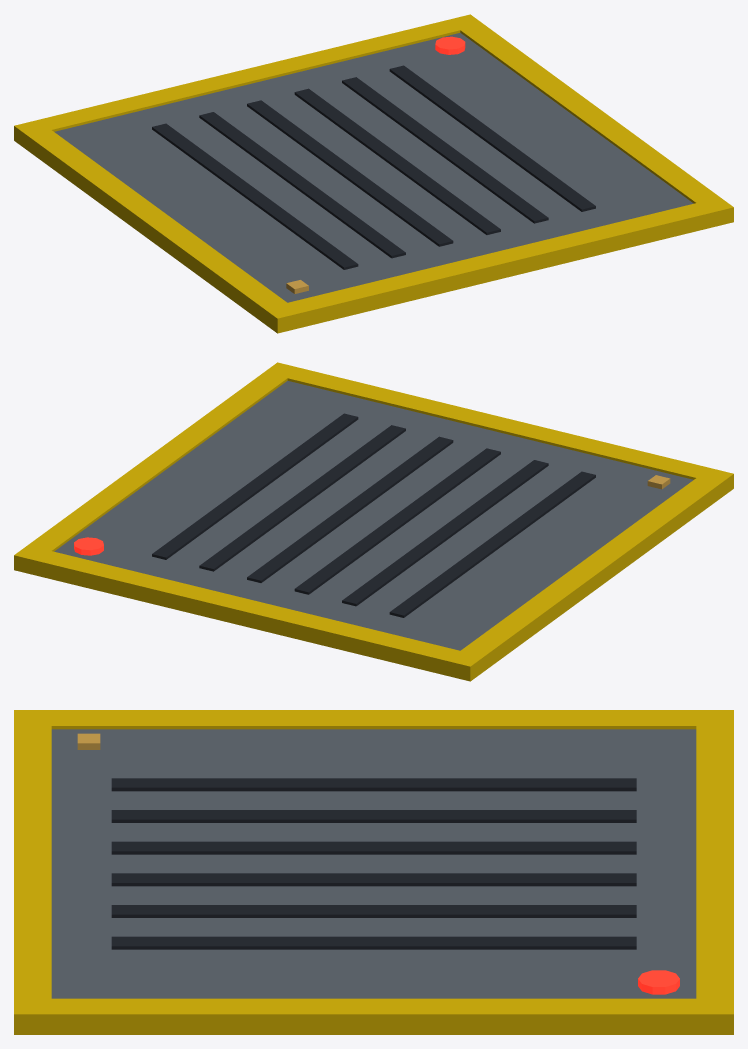
The model's file is pressure_plate.glb.
3 views of the same model, one above another, from view 1: azimuth 30°, elevation 25°; view 2: azimuth 150°, elevation 25°; view 3: azimuth 270°, elevation 25° (orthographic). The views are drawn at different scales.
Visible parts, largest first — view 1: pressure_plate; view 2: pressure_plate; view 3: pressure_plate.
Part boxes in pixels (x1,y1,x2,y2): pressure_plate: [14, 14, 733, 333]; pressure_plate: [14, 362, 733, 681]; pressure_plate: [14, 710, 733, 1034].
Size of the model in its own units: 0.96 by 0.036 by 0.96.
